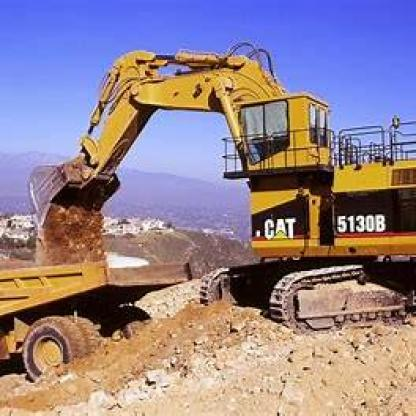excavator: (26, 33, 414, 323)
